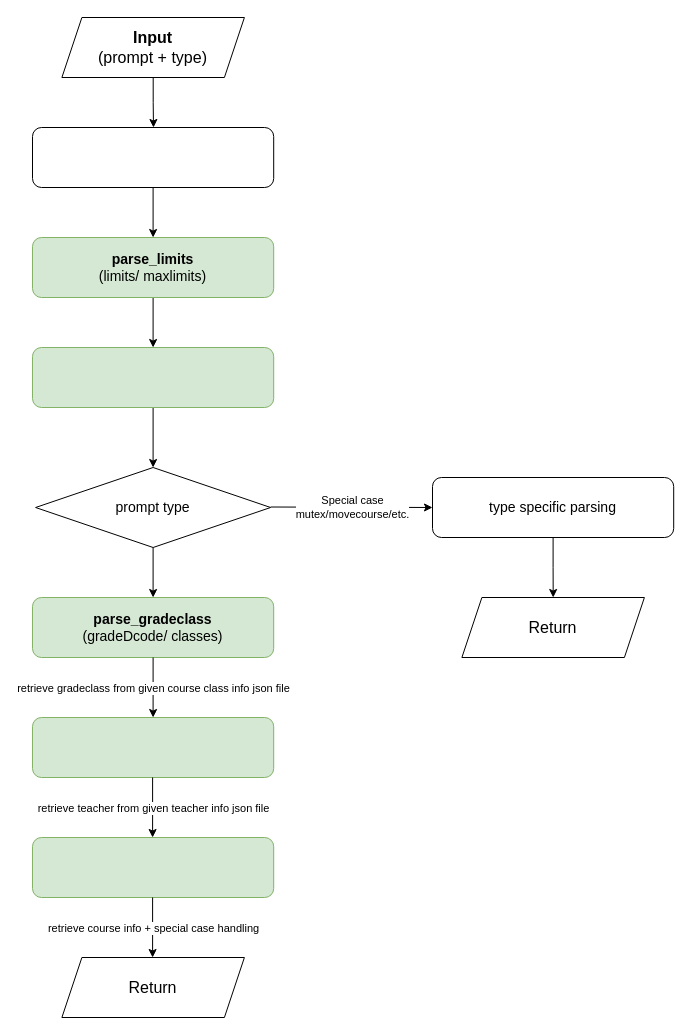
This 692x1035 diagram has some shape labels left out. Here are the shapes that lost their labels. From the top down, the centre of each, then its label:
pixel 153 157: Type dependent hard-coding
pixel 153 377: parse_perioddays (period/ dayOfWeek) (variation for type consec. course)
pixel 153 747: parse_teacher
pixel 153 867: parse_course
